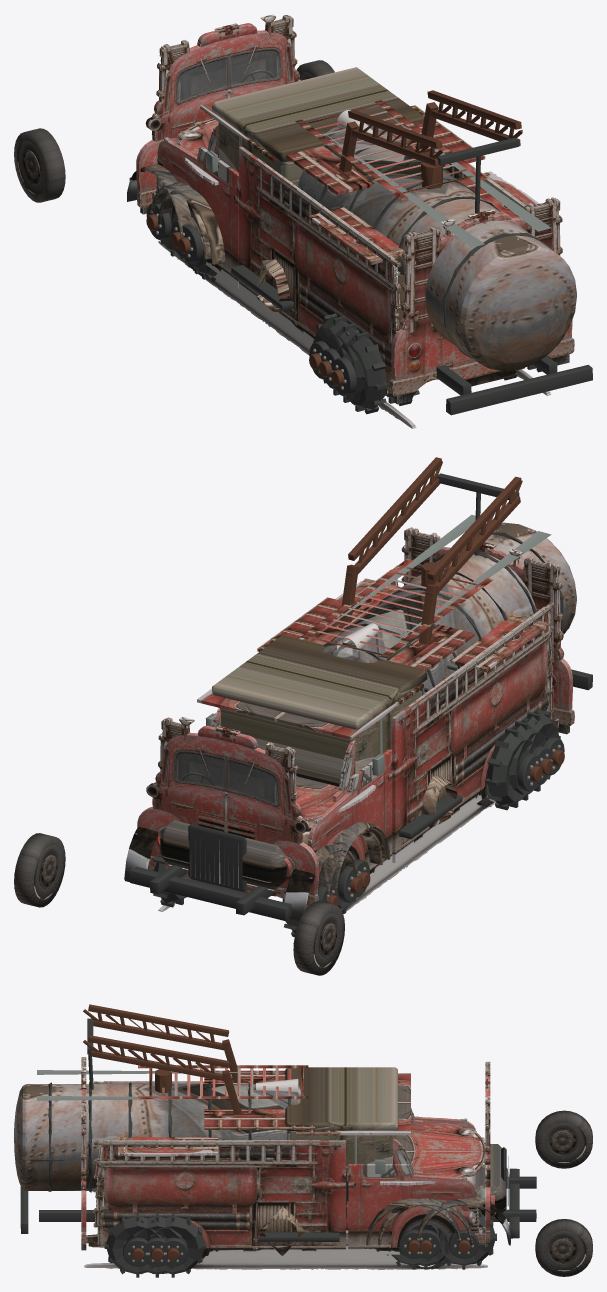
The model's file is trucks-1.glb.
3 renders of one model, top to bottom at view 1: azimuth 30°, elevation 25°; view 2: azimuth 150°, elevation 25°; view 3: azimuth 270°, elevation 25°, orthographic. The views are drawn at different scales.
Parts seen in each view (by area): view 1: fire-truck:photo measured shell, water-tanker:riveted rusted steel tanker, water-tanker:batched-water-tanker-/-photo-paint, supply-truck:batched-supply-truck-/-photo-paint, tow-rig:batched-Town-/-rusted-steel, water-tanker:batched-Town-/-iron-dark, fire-truck:front-right, fire-truck:roof-ladder, water-tanker:spin-rear-right:dual:batched-Town-/-iron-dark, water-tanker:batched-Town-/-galvanised-tin, tow-rig:batched-tow-rig-/-photo-paint, supply-truck:spin-rear-right:dual:batched-Town-/-iron-dark (+6 smaller); view 2: fire-truck:photo measured shell, supply-truck:batched-supply-truck-/-photo-paint, water-tanker:riveted rusted steel tanker, tow-rig:batched-Town-/-rusted-steel, supply-truck:batched-Town-/-iron-dark, fire-truck:roof-ladder, water-tanker:batched-water-tanker-/-photo-paint, water-tanker:batched-Town-/-iron-dark, fire-truck:front-right, fire-truck:front-left, tow-rig:spin-rear-right:dual:batched-Town-/-iron-dark, tow-rig:batched-Town-/-iron-dark (+6 smaller); view 3: fire-truck:photo measured shell, water-tanker:riveted rusted steel tanker, supply-truck:batched-supply-truck-/-photo-paint, tow-rig:batched-Town-/-rusted-steel, water-tanker:batched-Town-/-iron-dark, fire-truck:front-right, fire-truck:front-left, water-tanker:batched-water-tanker-/-photo-paint, water-tanker:spin-rear-left:dual:batched-Town-/-iron-dark, fire-truck:roof-ladder, tow-rig:spin-rear-left:dual:batched-Town-/-iron-dark, water-tanker:spin-front-left:batched-Town-/-iron-dark (+10 smaller).
Boxes of the visible parts, left/top/right/bottom form: fire-truck:photo measured shell: left=136, top=14, right=574, bottom=428; water-tanker:riveted rusted steel tanker: left=297, top=125, right=566, bottom=370; water-tanker:batched-water-tanker-/-photo-paint: left=127, top=126, right=576, bottom=371; supply-truck:batched-supply-truck-/-photo-paint: left=151, top=67, right=424, bottom=259; tow-rig:batched-Town-/-rusted-steel: left=339, top=90, right=522, bottom=172; water-tanker:batched-Town-/-iron-dark: left=319, top=124, right=592, bottom=415; fire-truck:front-right: left=14, top=128, right=65, bottom=202; fire-truck:roof-ladder: left=295, top=100, right=488, bottom=199; water-tanker:spin-rear-right:dual:batched-Town-/-iron-dark: left=332, top=329, right=388, bottom=414; water-tanker:batched-Town-/-galvanised-tin: left=208, top=114, right=551, bottom=247; tow-rig:batched-tow-rig-/-photo-paint: left=158, top=189, right=225, bottom=264; supply-truck:spin-rear-right:dual:batched-Town-/-iron-dark: left=322, top=322, right=365, bottom=405; fire-truck:photo measured shell: left=137, top=527, right=574, bottom=943; supply-truck:batched-supply-truck-/-photo-paint: left=160, top=635, right=427, bottom=902; water-tanker:riveted rusted steel tanker: left=321, top=523, right=576, bottom=696; tow-rig:batched-Town-/-rusted-steel: left=339, top=457, right=522, bottom=644; supply-truck:batched-Town-/-iron-dark: left=130, top=766, right=462, bottom=920; fire-truck:roof-ladder: left=300, top=558, right=493, bottom=658; water-tanker:batched-water-tanker-/-photo-paint: left=124, top=522, right=576, bottom=921; water-tanker:batched-Town-/-iron-dark: left=150, top=532, right=592, bottom=915; fire-truck:front-right: left=293, top=901, right=344, bottom=975; fire-truck:front-left: left=14, top=833, right=65, bottom=907; tow-rig:spin-rear-right:dual:batched-Town-/-iron-dark: left=485, top=727, right=541, bottom=810; tow-rig:batched-Town-/-iron-dark: left=129, top=473, right=519, bottom=909; fire-truck:photo measured shell: left=81, top=1057, right=490, bottom=1269; water-tanker:riveted rusted steel tanker: left=26, top=1084, right=296, bottom=1190; supply-truck:batched-supply-truck-/-photo-paint: left=285, top=1067, right=506, bottom=1245; tow-rig:batched-Town-/-rusted-steel: left=83, top=1004, right=241, bottom=1113; water-tanker:batched-Town-/-iron-dark: left=20, top=1082, right=536, bottom=1233; fire-truck:front-right: left=535, top=1110, right=592, bottom=1168; fire-truck:front-left: left=535, top=1219, right=592, bottom=1276; water-tanker:batched-water-tanker-/-photo-paint: left=14, top=1084, right=510, bottom=1245; water-tanker:spin-rear-left:dual:batched-Town-/-iron-dark: left=104, top=1213, right=166, bottom=1277; fire-truck:roof-ladder: left=138, top=1065, right=308, bottom=1098; tow-rig:spin-rear-left:dual:batched-Town-/-iron-dark: left=146, top=1213, right=206, bottom=1277; water-tanker:spin-front-left:batched-Town-/-iron-dark: left=439, top=1209, right=496, bottom=1269.
Size of the model in its own units: 4.64 by 4.19 by 9.86.
Materials: 15 (8 with a texture image).
